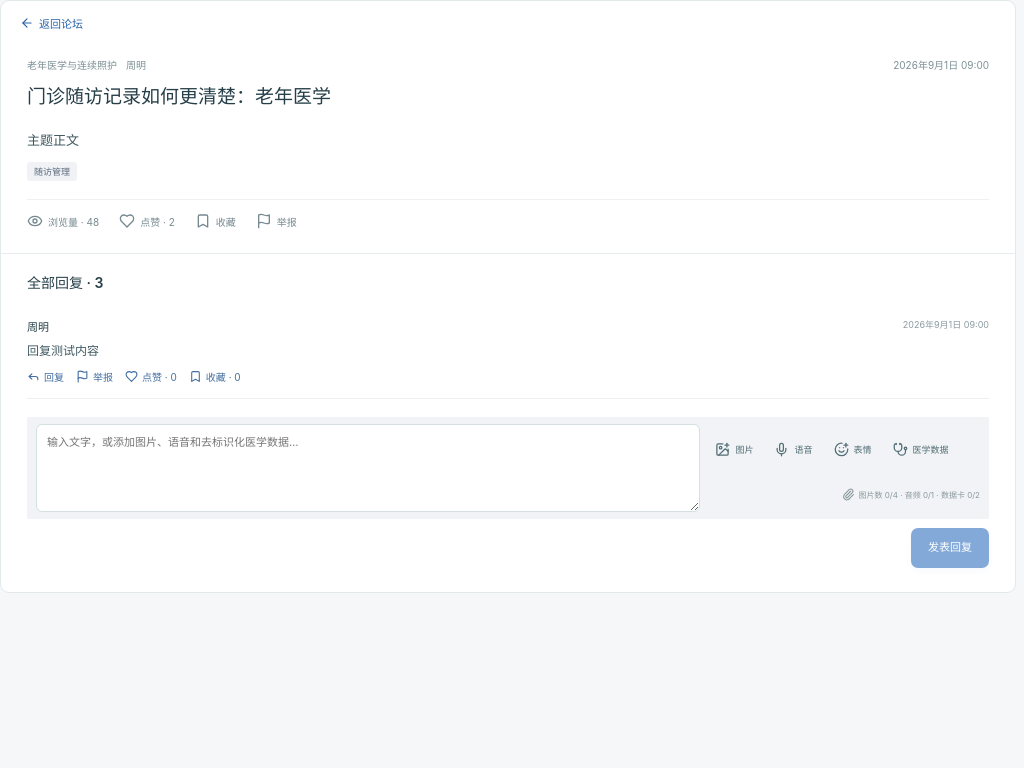
Test: CommunityPage › offers compact reply reactions and updates from the API
Step 1. Click the button with aria-label "点赞回复" → (151, 377), box [125,369,177,384]
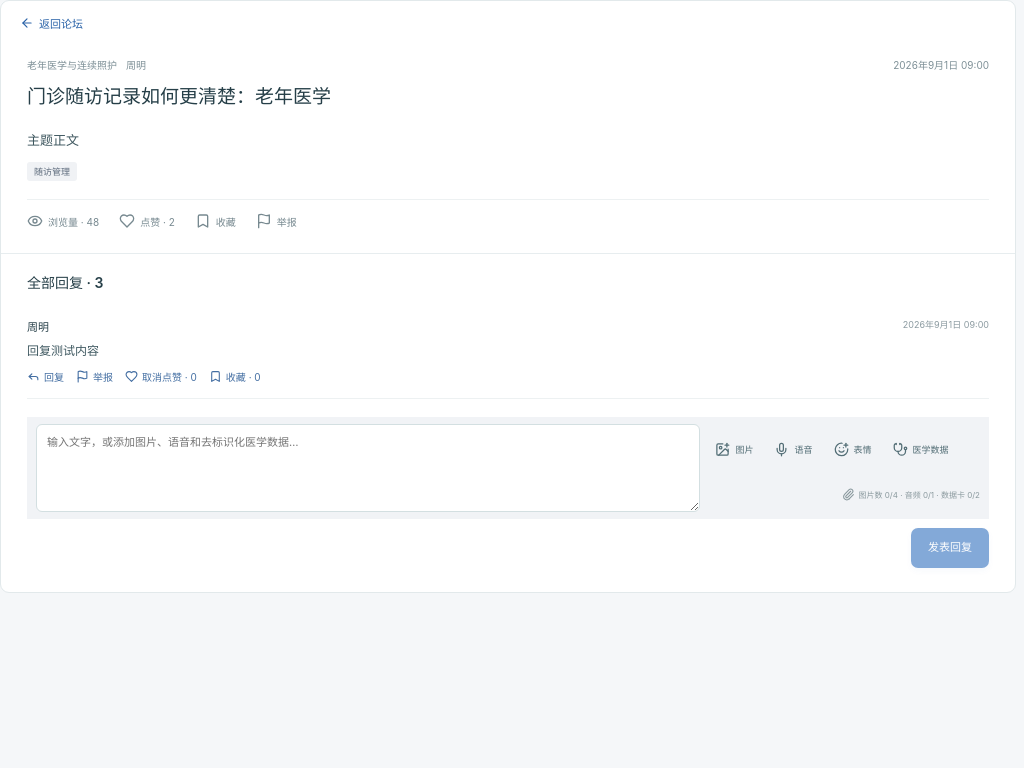
Check: the button with aria-label "收藏回复" is shown, box [209,369,261,384]
Check: the button with aria-label "取消点赞回复" is shown, box [125,369,197,384]
